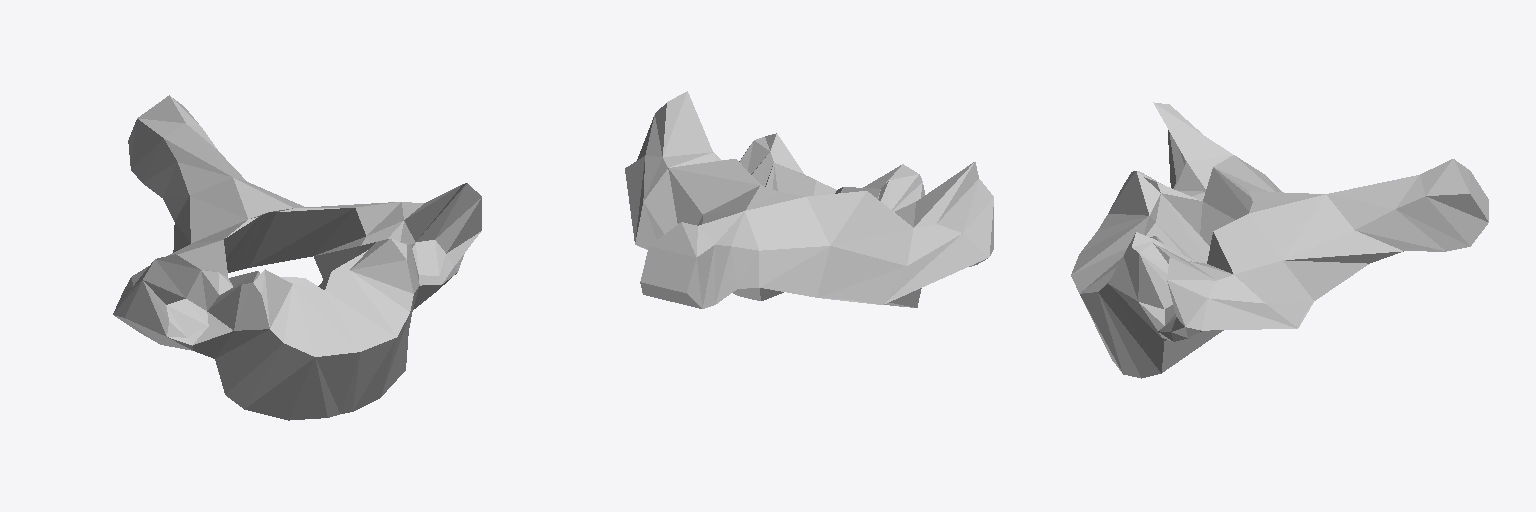
The model's file is Spine_Bone_06.obj.
3 renders of one model, left to right at view 1: azimuth 30°, elevation 25°; view 2: azimuth 150°, elevation 25°; view 3: azimuth 270°, elevation 25°, orthographic.
Parts seen in each view (by area): view 1: C06_Mesh group1; view 2: C06_Mesh group1; view 3: C06_Mesh group1.
Part boxes in pixels (left/top/right/bottom): C06_Mesh group1: left=113, top=95, right=481, bottom=420; C06_Mesh group1: left=625, top=91, right=993, bottom=308; C06_Mesh group1: left=1071, top=102, right=1488, bottom=378.
Size of the model in its own units: 0.7329 by 0.3743 by 0.728.